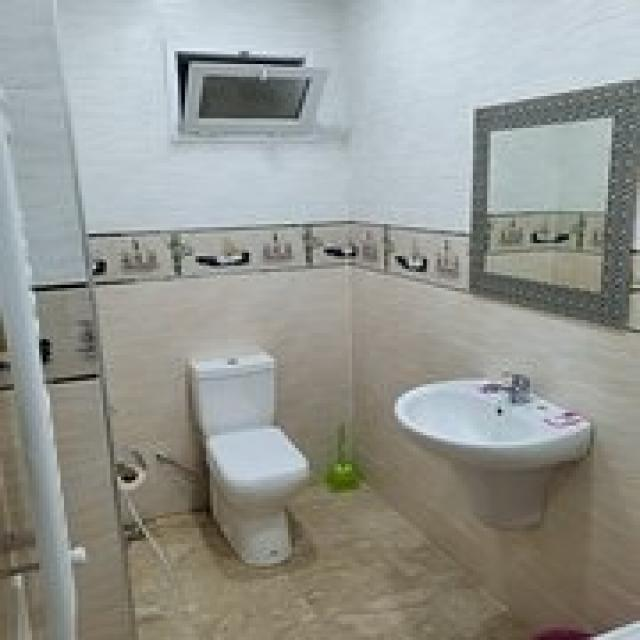tap: (462, 352, 555, 420)
toilet: (154, 338, 328, 576)
wash basin: (407, 358, 581, 516)
